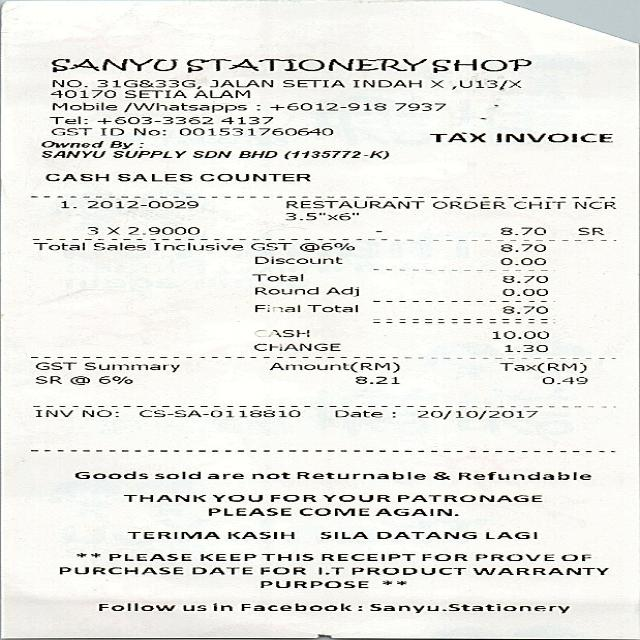text: (47, 54, 530, 72), (366, 602, 568, 613), (267, 360, 397, 372), (136, 409, 297, 417), (119, 102, 244, 112), (416, 409, 536, 419), (492, 131, 610, 141), (284, 200, 422, 208), (468, 566, 606, 574), (178, 128, 331, 135), (458, 472, 589, 480), (81, 360, 176, 371), (95, 78, 199, 88), (395, 494, 539, 501), (56, 565, 180, 573), (32, 374, 128, 384), (239, 602, 359, 610), (496, 361, 582, 372), (267, 102, 383, 110), (348, 566, 464, 574), (96, 116, 210, 124), (83, 200, 195, 208), (296, 472, 424, 479), (197, 173, 308, 181), (262, 580, 369, 588), (282, 150, 386, 158), (374, 530, 472, 538), (449, 78, 518, 89), (123, 530, 217, 538), (318, 552, 412, 560), (252, 304, 354, 311), (151, 242, 240, 250), (249, 270, 299, 284), (253, 256, 339, 264), (251, 342, 337, 350), (96, 602, 173, 610), (115, 173, 191, 181), (427, 130, 482, 141), (54, 88, 114, 98), (70, 470, 145, 478), (430, 200, 504, 208), (250, 328, 309, 338), (121, 494, 203, 501), (348, 78, 419, 86), (207, 507, 288, 514), (107, 553, 187, 560), (472, 553, 551, 560), (48, 102, 114, 110), (226, 530, 292, 538), (120, 90, 184, 98), (252, 285, 316, 293), (283, 212, 356, 219), (208, 79, 271, 87), (279, 79, 342, 87), (126, 226, 198, 233), (296, 242, 352, 251), (373, 508, 455, 514), (188, 566, 249, 574), (298, 507, 367, 514), (334, 409, 393, 417), (322, 494, 388, 501), (191, 90, 246, 98), (44, 173, 106, 180), (111, 150, 183, 156), (498, 227, 545, 236), (220, 116, 272, 124), (92, 242, 143, 250), (31, 242, 82, 250), (352, 374, 397, 383), (511, 200, 561, 208), (181, 602, 231, 610), (394, 102, 443, 110), (490, 330, 545, 337), (498, 304, 545, 312), (317, 530, 364, 538), (38, 140, 100, 146), (40, 150, 102, 156), (257, 566, 302, 574), (498, 244, 542, 252), (498, 257, 542, 265), (540, 375, 584, 383), (483, 531, 532, 538), (201, 553, 250, 560), (48, 115, 86, 124), (211, 494, 259, 501), (262, 553, 310, 560), (249, 242, 290, 250), (49, 127, 89, 135), (573, 200, 613, 208), (502, 274, 546, 281), (152, 471, 196, 478), (268, 494, 312, 501), (420, 553, 464, 560), (502, 344, 545, 351), (324, 285, 354, 295), (32, 409, 69, 417), (577, 226, 605, 236), (33, 361, 72, 368), (50, 79, 84, 87), (80, 409, 114, 417), (502, 288, 546, 294), (106, 140, 134, 149), (235, 150, 274, 156), (250, 472, 289, 478), (130, 128, 163, 135), (314, 566, 342, 574), (192, 150, 228, 156), (205, 472, 241, 478), (558, 553, 588, 560), (98, 127, 120, 135), (431, 471, 448, 478), (57, 200, 73, 207), (429, 79, 442, 87), (103, 226, 116, 233), (85, 226, 95, 233), (252, 104, 258, 110)
